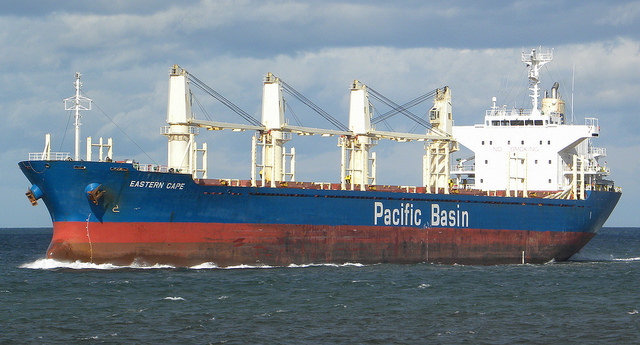bulk carrier: (21, 46, 621, 270)
